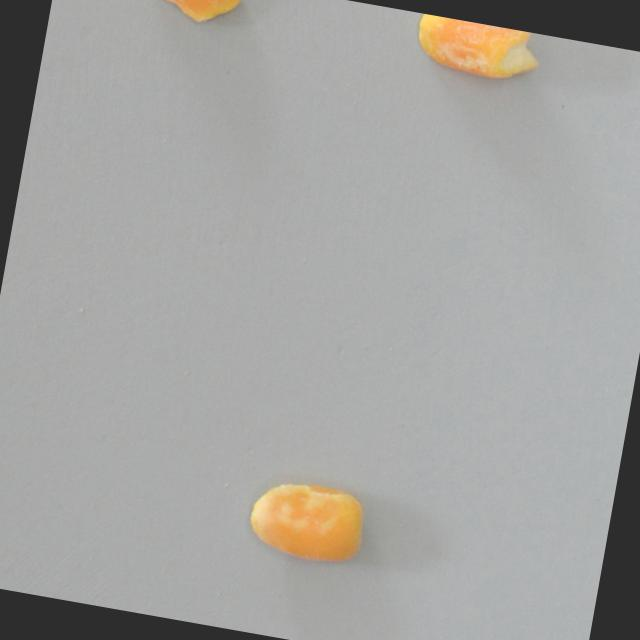pelicula: (238, 469, 373, 573), (411, 13, 544, 90), (111, 0, 243, 32)
